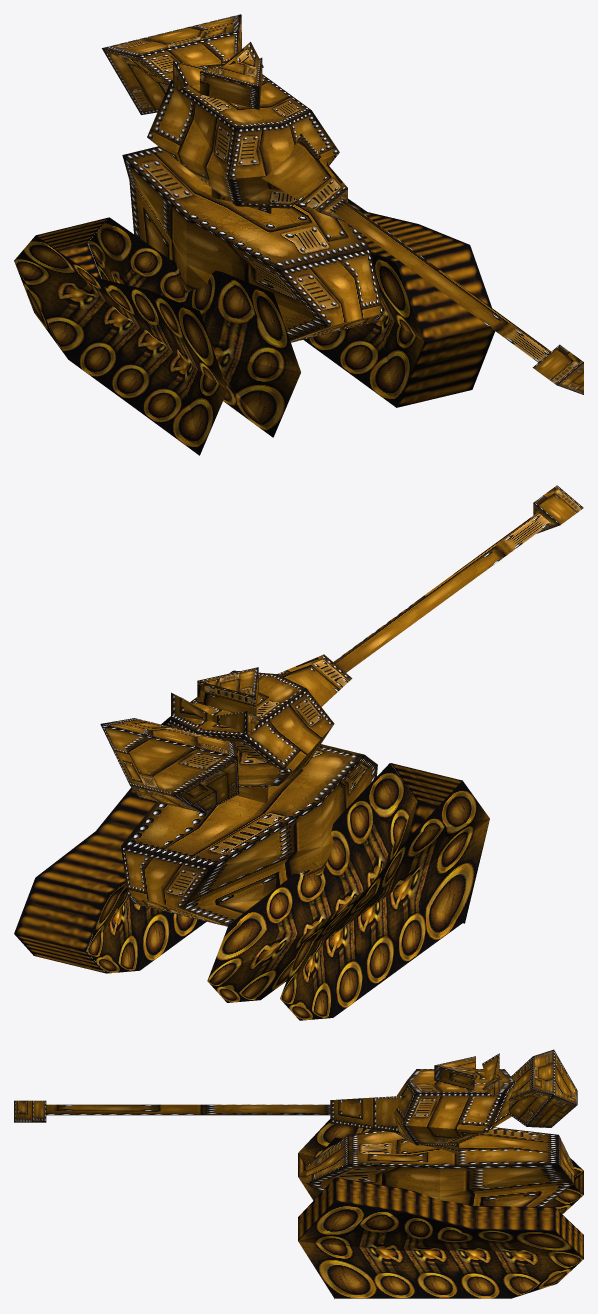
File: Panzer_497.glb
3 views of the same model, one above another, from view 1: azimuth 30°, elevation 25°; view 2: azimuth 150°, elevation 25°; view 3: azimuth 270°, elevation 25° (orthographic). The views are drawn at different scales.
Parts seen in each view (by area): view 1: pPlaneShape3, pPlaneShape4, pPlaneShape6, pPlaneShape10, pPlaneShape9, pPlaneShape2, pPlaneShape18, pPlaneShape7, pPlaneShape20, loc_5_panzer_pCylinderShape1, loc_5_panzer_pCylinderShape3, pPlaneShape22 (+8 smaller); view 2: pPlaneShape3, pPlaneShape4, pPlaneShape6, pPlaneShape10, pPlaneShape9, pPlaneShape2, pPlaneShape25, loc_5_panzer_pCylinderShape1, pPlaneShape18, pPlaneShape11, pPlaneShape22, pPlaneShape5 (+8 smaller); view 3: pPlaneShape1, pPlaneShape8, pPlaneShape6, pPlaneShape10, pPlaneShape19, loc_5_panzer_pCylinderShape1, loc_5_panzer_pCylinderShape3, pPlaneShape22, pPlaneShape3, pPlaneShape7, pPlaneShape28, pPlaneShape4 (+11 smaller).
Boxes of the visible parts, x1,y1,x2,y2 form: pPlaneShape3: (14, 235, 227, 455); pPlaneShape4: (88, 217, 300, 437); pPlaneShape6: (348, 199, 495, 407); pPlaneShape10: (122, 146, 369, 269); pPlaneShape9: (122, 155, 328, 340); pPlaneShape2: (303, 253, 424, 407); pPlaneShape18: (147, 80, 236, 205); pPlaneShape7: (280, 248, 383, 342); pPlaneShape20: (229, 110, 339, 208); loc_5_panzer_pCylinderShape1: (330, 199, 551, 362); loc_5_panzer_pCylinderShape3: (261, 133, 347, 212); pPlaneShape22: (171, 64, 311, 128); pPlaneShape3: (280, 780, 489, 1020); pPlaneShape4: (207, 763, 417, 1002); pPlaneShape6: (14, 787, 156, 973); pPlaneShape10: (121, 744, 364, 867); pPlaneShape9: (181, 755, 377, 925); pPlaneShape2: (86, 882, 206, 973); pPlaneShape25: (100, 724, 237, 795); loc_5_panzer_pCylinderShape1: (333, 512, 550, 672); pPlaneShape18: (242, 688, 334, 784); pPlaneShape11: (121, 846, 227, 926); pPlaneShape22: (169, 670, 306, 735); pPlaneShape5: (390, 763, 488, 923); pPlaneShape1: (298, 1201, 583, 1298); pPlaneShape8: (306, 1164, 573, 1206); pPlaneShape6: (298, 1177, 583, 1298); pPlaneShape10: (348, 1127, 558, 1166); pPlaneShape19: (403, 1093, 504, 1145); loc_5_panzer_pCylinderShape1: (46, 1104, 330, 1115); loc_5_panzer_pCylinderShape3: (330, 1095, 405, 1133); pPlaneShape22: (406, 1069, 514, 1093); pPlaneShape3: (298, 1119, 583, 1179); pPlaneShape7: (306, 1135, 348, 1183); pPlaneShape28: (508, 1090, 553, 1126); pPlaneShape4: (298, 1137, 583, 1214).
Bounding box in the file's own units: 0.5906 × 0.5805 × 1.59.
Materials: 36 (36 with a texture image).
